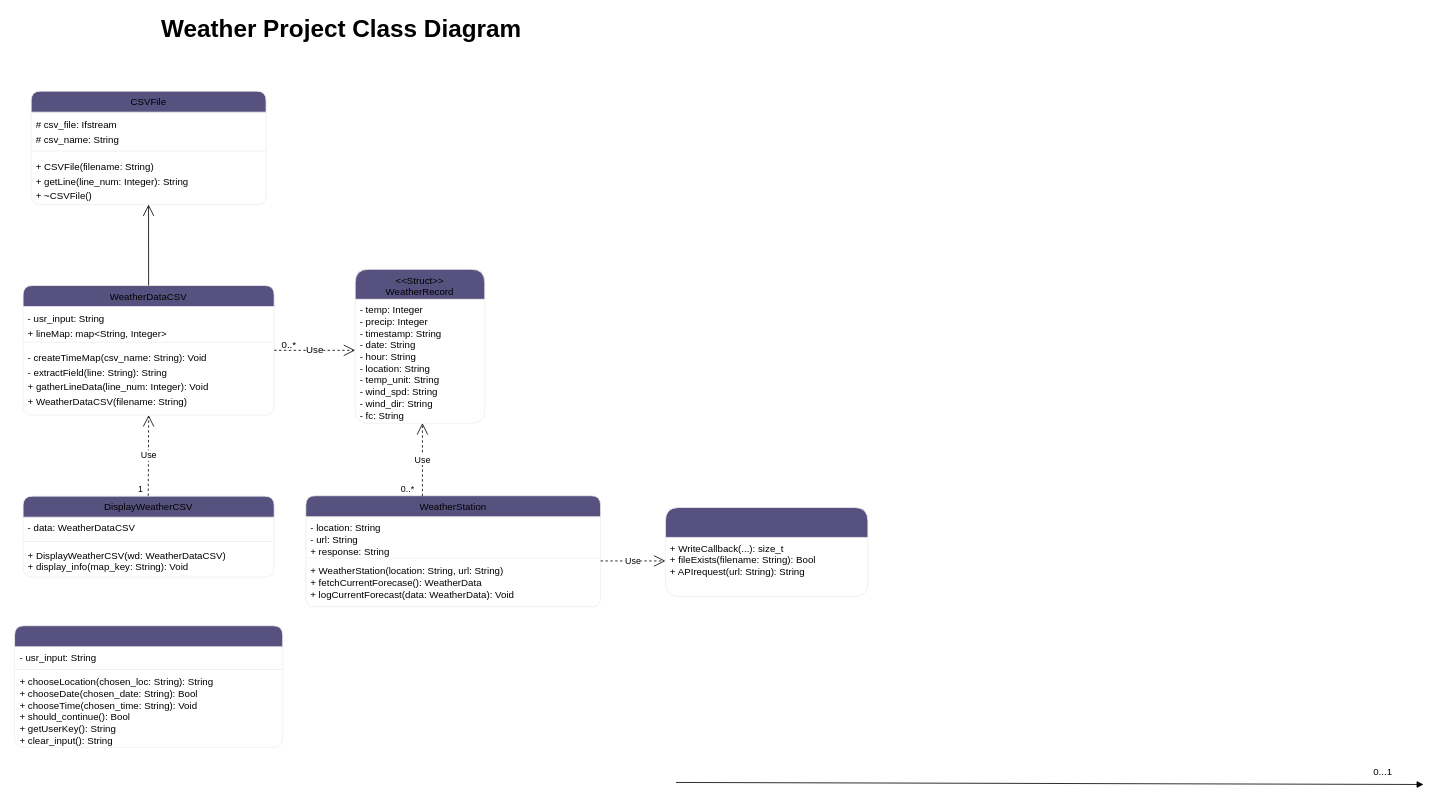
Some shapes in this 1444 by 805 pixel diagram are drawn without their labels. Here are the shapes that lost their labels. From the top down, the box of each, then its label:
(665, 507, 868, 597): <<Struct>> Functions
(14, 625, 283, 747): WeatherInputHandler
